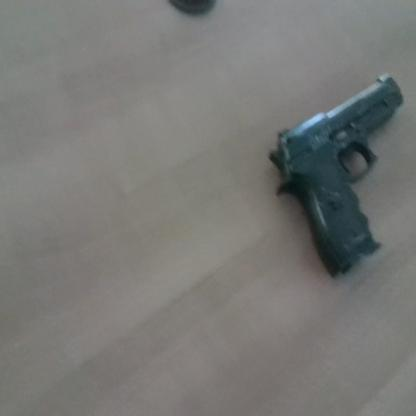handgun: (251, 64, 416, 337)
